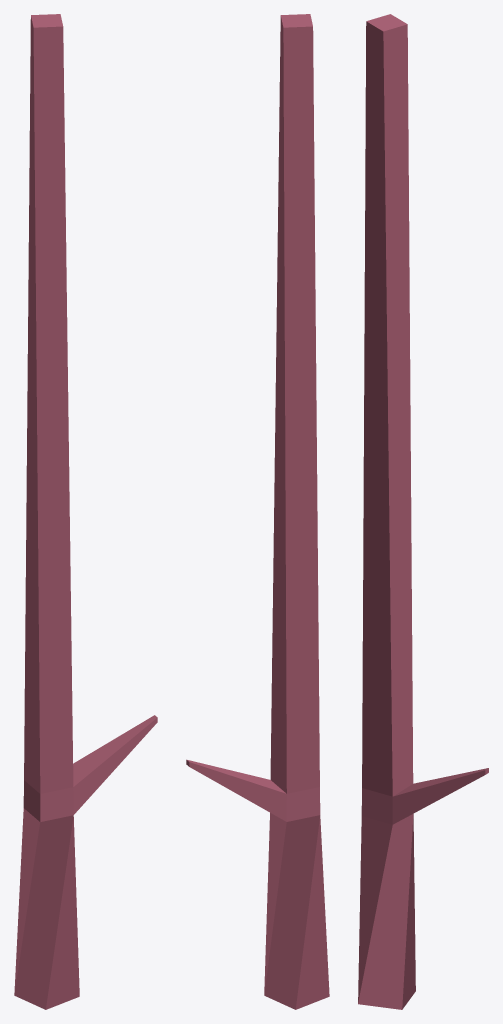
Rendered from back_tree_4.fbx.
The picture shows the model from 3 angles, left to right: view 1: azimuth 30°, elevation 25°; view 2: azimuth 210°, elevation 25°; view 3: azimuth 330°, elevation 25°; orthographic projection.
Visible parts, largest first — view 1: Cube.130; view 2: Cube.130; view 3: Cube.130.
Part boxes in pixels (box(x1,y1,x2,y2)): Cube.130: box(14, 14, 157, 1009); Cube.130: box(186, 14, 329, 1009); Cube.130: box(358, 14, 488, 1009).
Size of the model in its own units: 326 by 2357 by 121.
